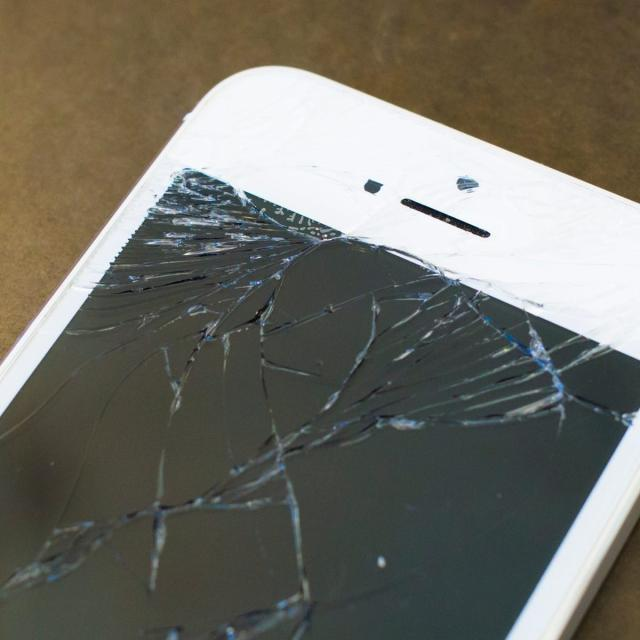phones: (0, 68, 639, 639)
